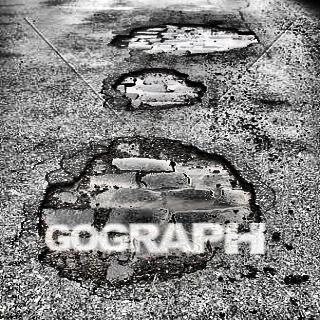pothole: (34, 130, 269, 295), (107, 17, 266, 61), (108, 69, 214, 115)
